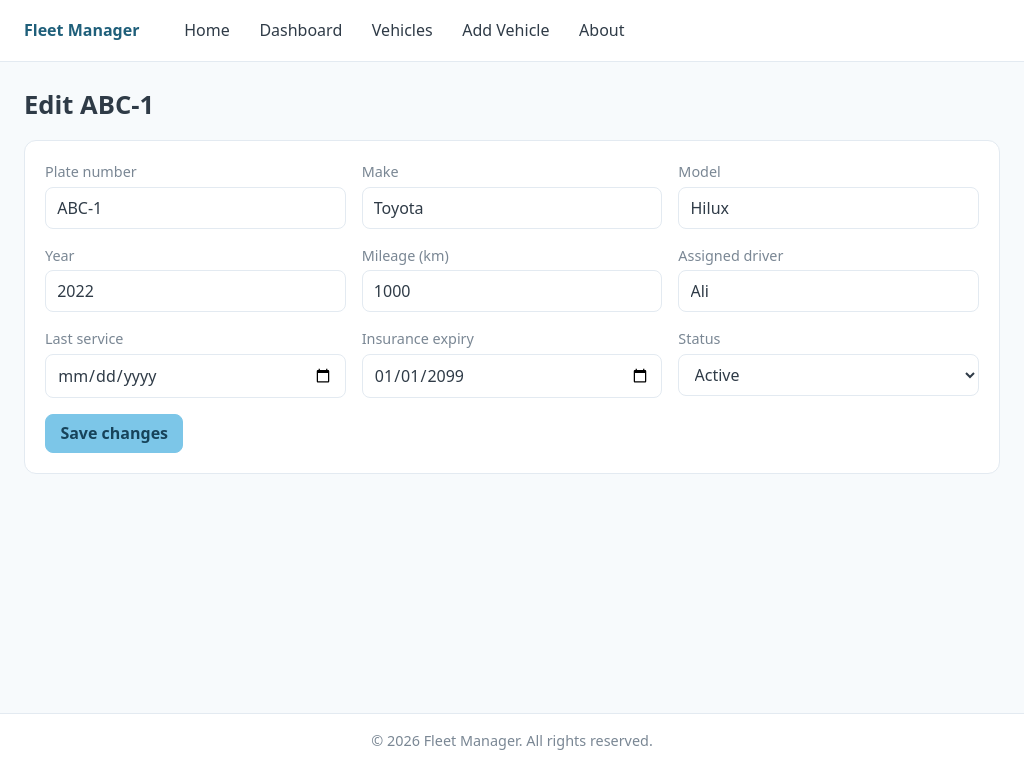
Test case: add and edit › edits an existing vehicle
Replace the text in the field labelled "Assigned driver" with "Mona" at (829, 291), box left=678, top=270, right=979, bottom=312
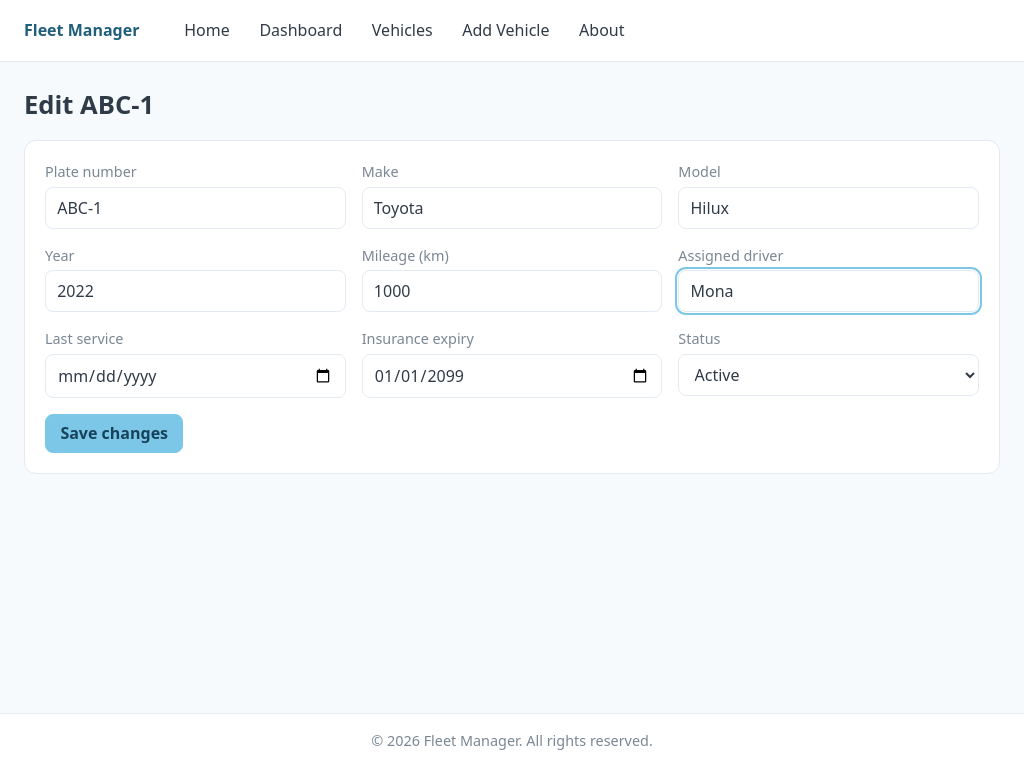
Click the button "Save changes" at (114, 433), box left=45, top=414, right=183, bottom=453
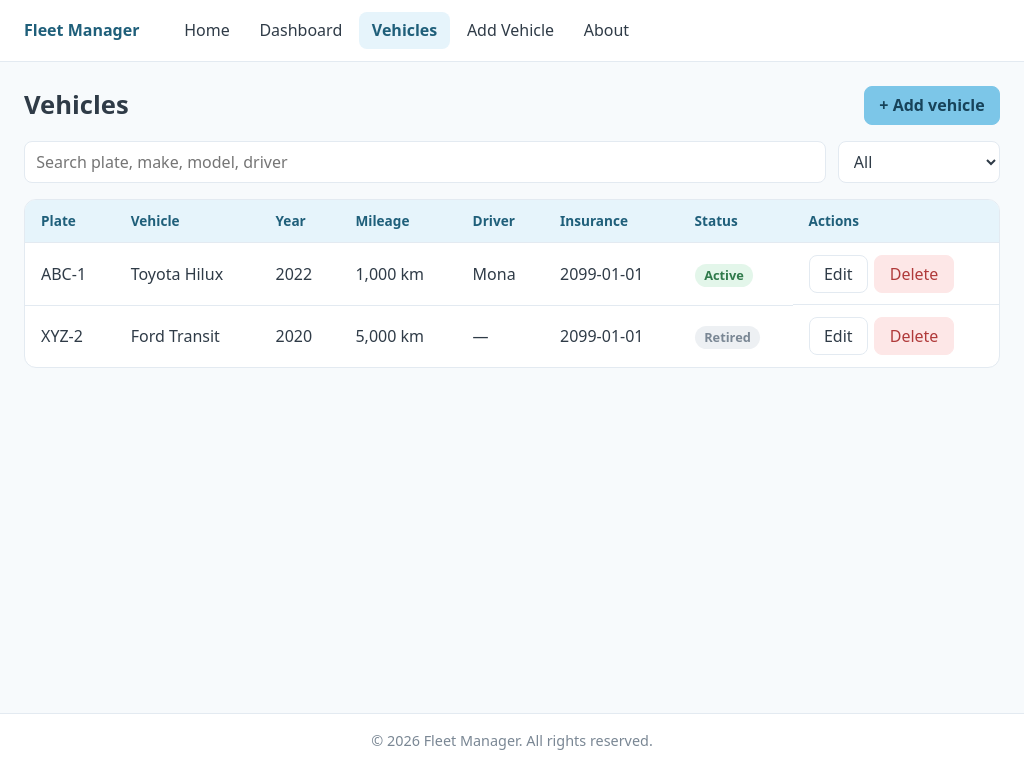
Expected: the text "Mona" is shown, left=457, top=243, right=544, bottom=306
